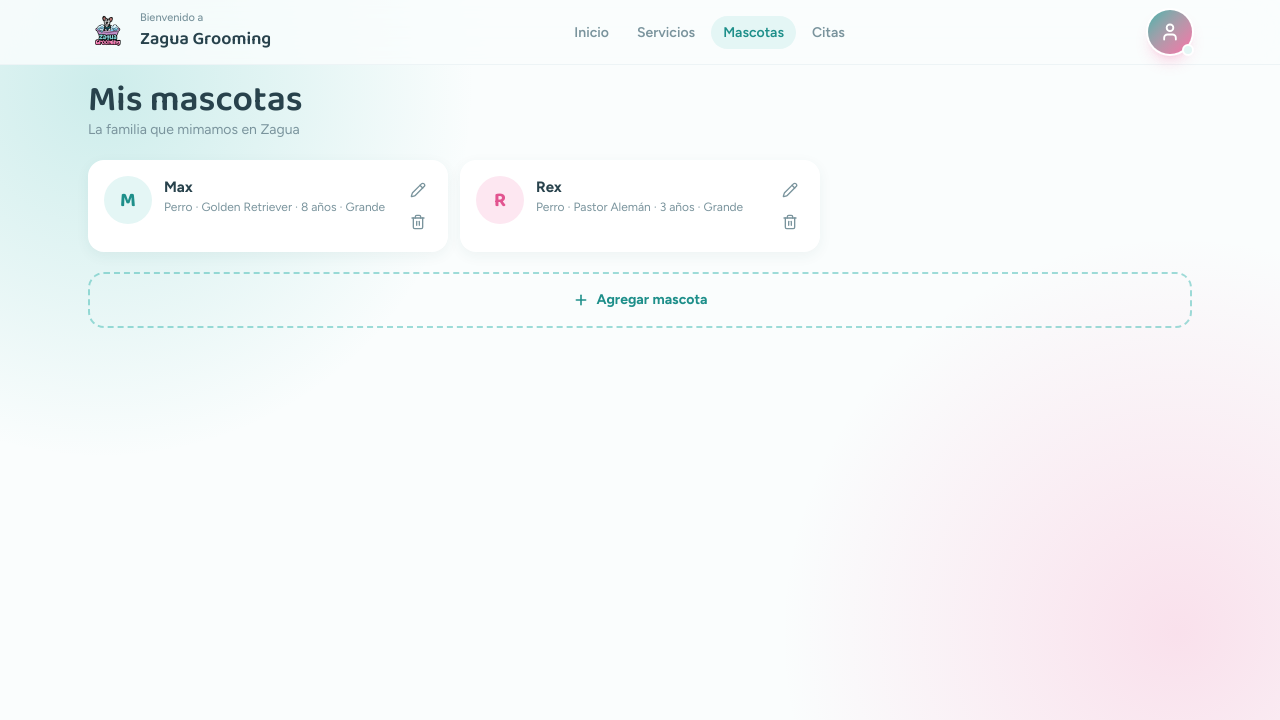
Test: Eliminar mascota › elimina a Max y mantiene a Rex
Check: the heading "Max" is shown, box [164,178,193,196]
Check: the text "Golden Retriever" is shown, box [164,200,385,214]
Note: Botón eliminar de la primera mascota (Max)
Click the button named "Eliminar" below "Max".
click(418, 222)  # box [404,208,432,236]
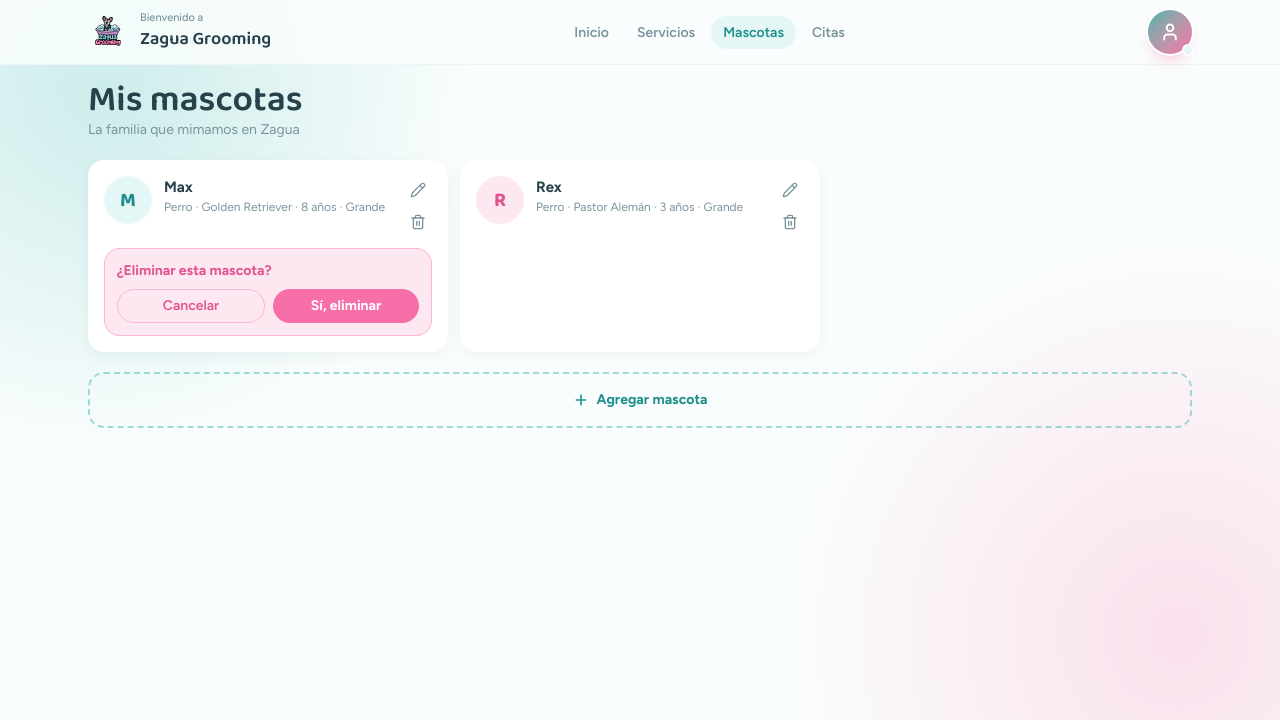
Click the button "Sí, eliminar".
click(346, 306)  # box [273,289,419,323]
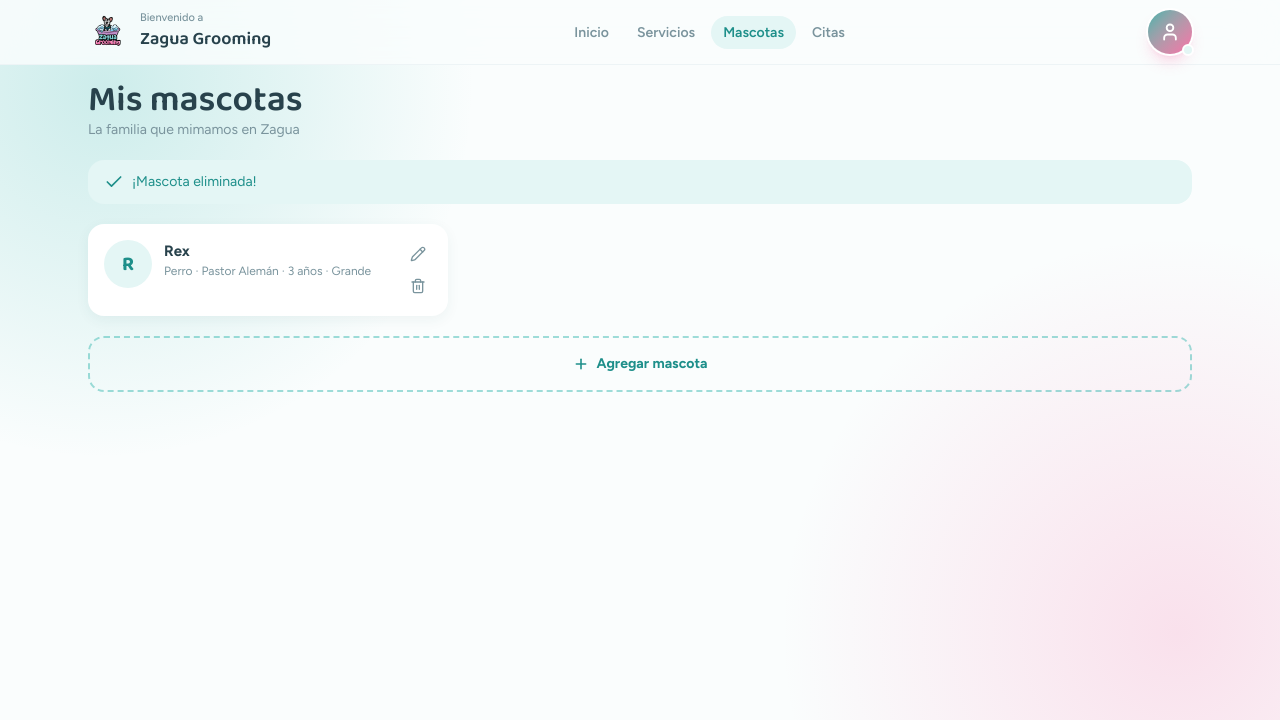
Check: the heading "Rex" is shown, box [164,242,190,260]
Check: the text "¡Mascota eliminada!" is shown, box [88,160,1192,204]
Check: the heading "Max" is gone
